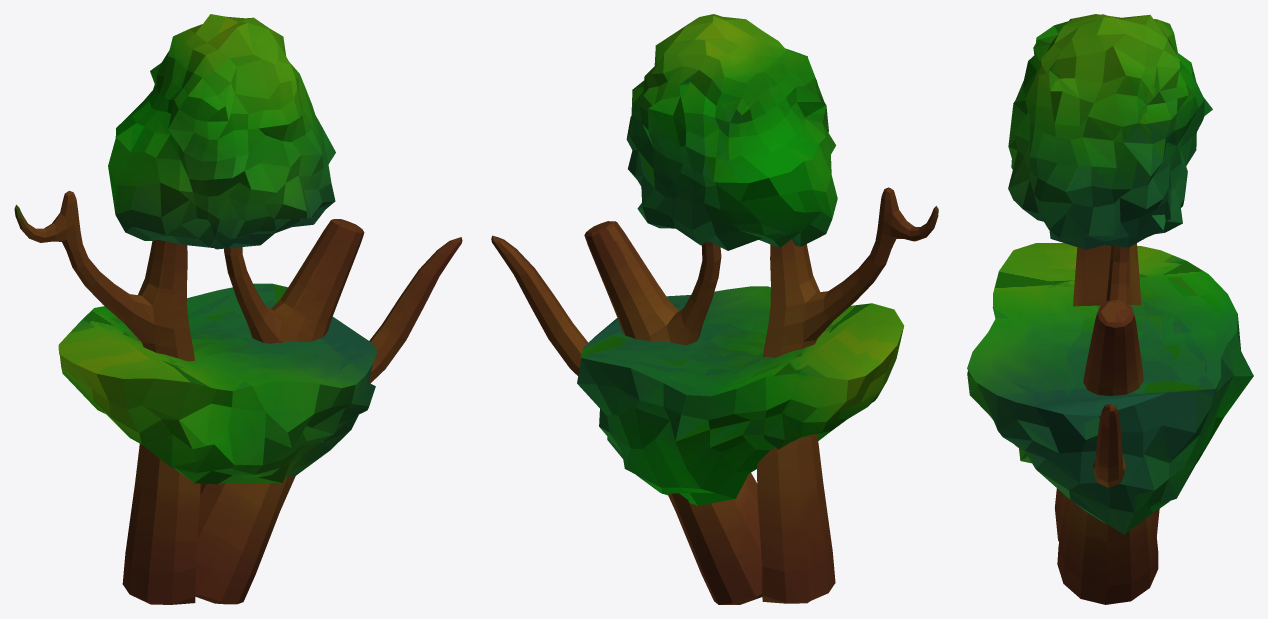
Rendered from SUP_VEG_Tree01.fbx.
3 renders of one model, left to right at view 1: azimuth 30°, elevation 25°; view 2: azimuth 150°, elevation 25°; view 3: azimuth 270°, elevation 25°, orthographic. The views are drawn at different scales.
Parts seen in each view (by area): view 1: Tree_Canopy, Tree_Canopy.001, Tree_Trunk, Tree_Trunk.001; view 2: Tree_Canopy.001, Tree_Canopy, Tree_Trunk.001, Tree_Trunk; view 3: Tree_Canopy.001, Tree_Canopy, Tree_Trunk, Tree_Trunk.001.
Boxes of the visible parts, left/top/right/bottom form: Tree_Canopy: left=108, top=14, right=335, bottom=249; Tree_Canopy.001: left=58, top=283, right=377, bottom=484; Tree_Trunk: left=195, top=219, right=462, bottom=604; Tree_Trunk.001: left=14, top=191, right=200, bottom=604; Tree_Canopy.001: left=577, top=286, right=903, bottom=505; Tree_Canopy: left=626, top=14, right=837, bottom=250; Tree_Trunk.001: left=757, top=187, right=938, bottom=603; Tree_Trunk: left=491, top=221, right=762, bottom=604; Tree_Canopy.001: left=967, top=243, right=1253, bottom=534; Tree_Canopy: left=1008, top=14, right=1212, bottom=249; Tree_Trunk: left=1057, top=246, right=1158, bottom=604; Tree_Trunk.001: left=1054, top=243, right=1159, bottom=541.
Bounding box in the file's own units: 409 × 500 × 220.
1 material, 1 textured.
